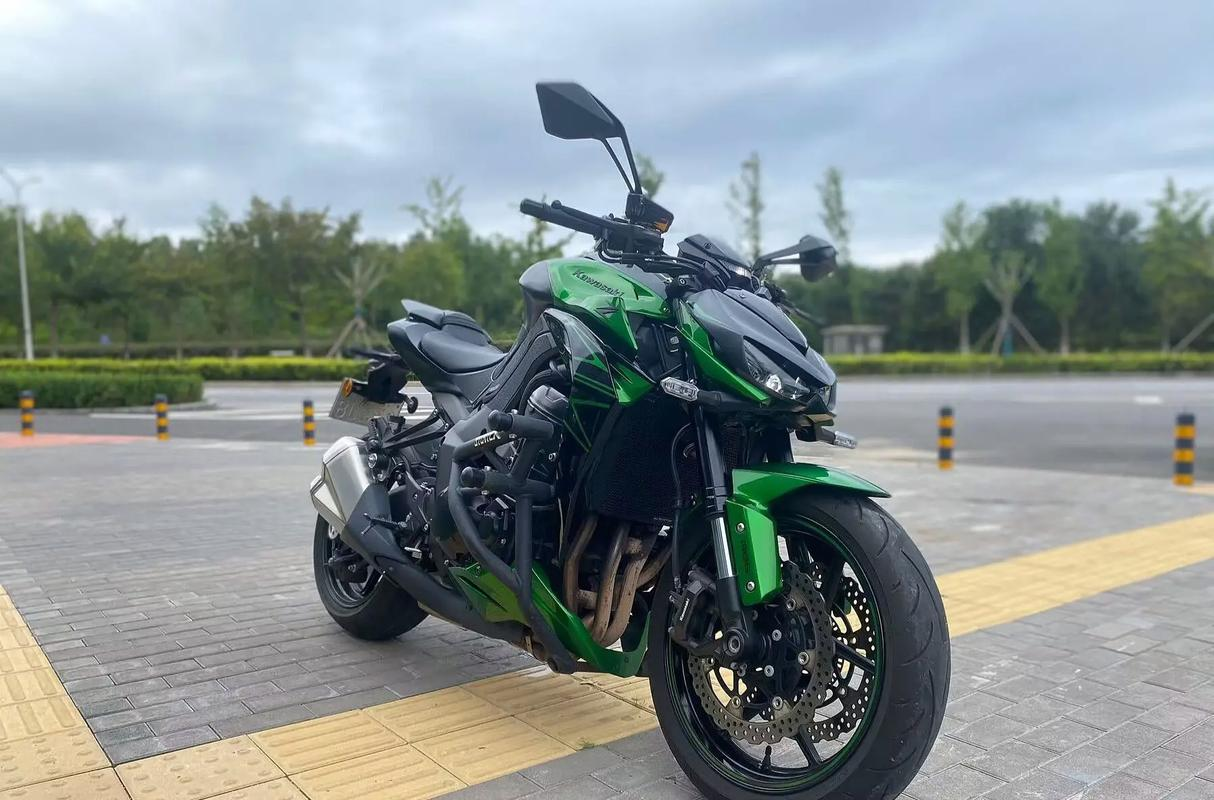摩托车: (311, 221, 964, 800)
